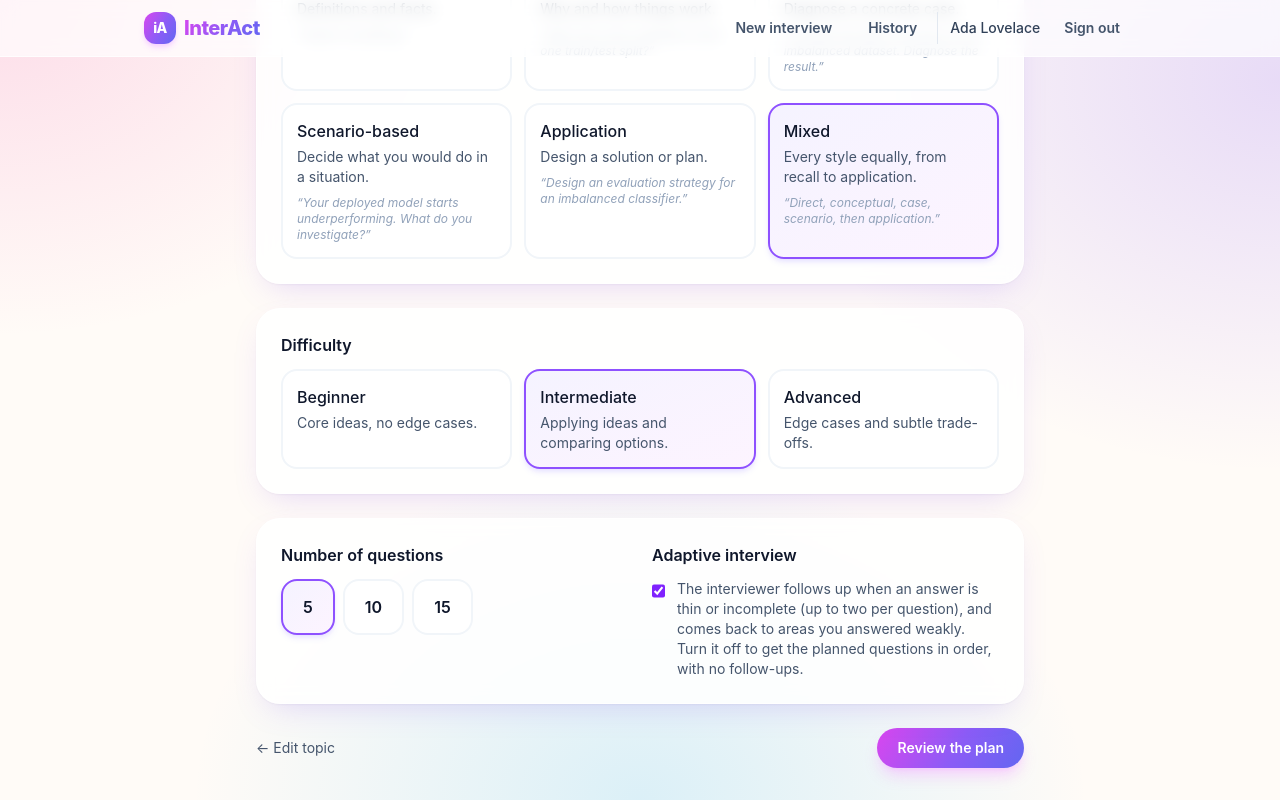
Test case: settings page › shows why settings could not be saved
(page scrolled)
What coordinates should you click on to do the following:
click the button "Review the plan"
I would click on:
 (951, 748)
Its box is x1=877 y1=728 x2=1024 y2=768.
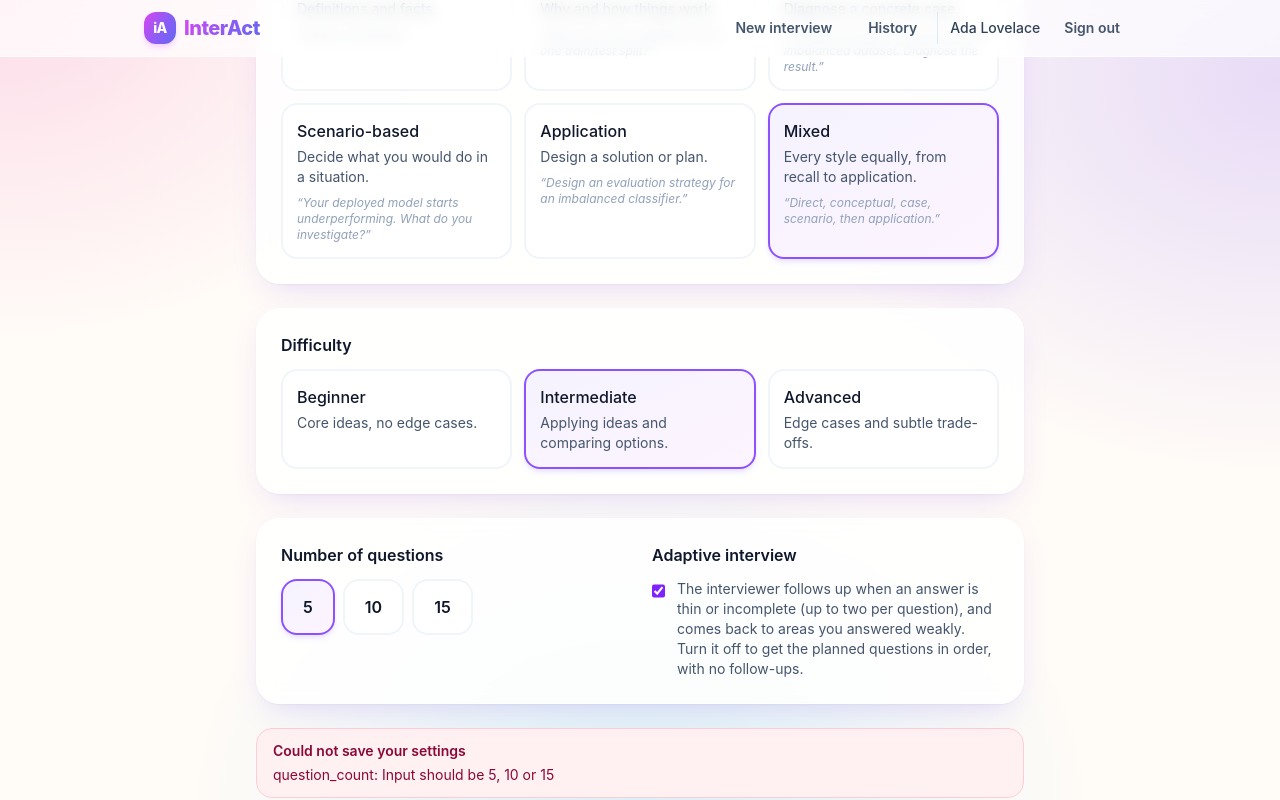
Now the text "question_count: Input should be 5, 10 or 15" is shown, box x1=273 y1=766 x2=554 y2=783
